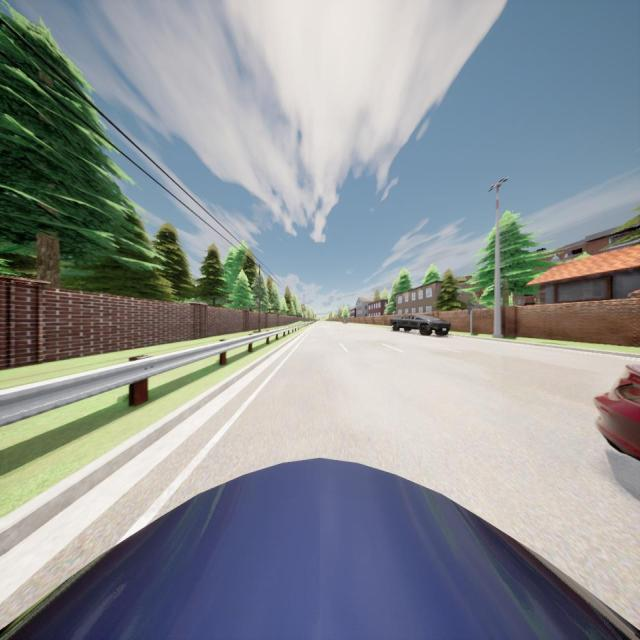Vehicle: (0, 460, 640, 640), (592, 363, 640, 464), (390, 315, 451, 336), (343, 320, 347, 324)
